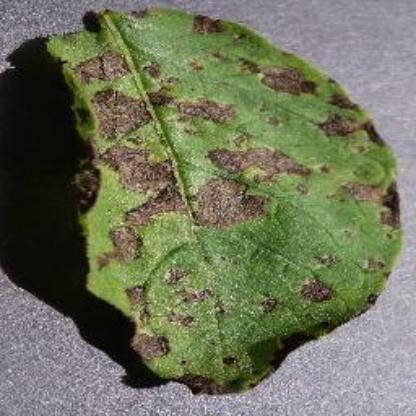Early-Blight: (37, 6, 401, 398)
